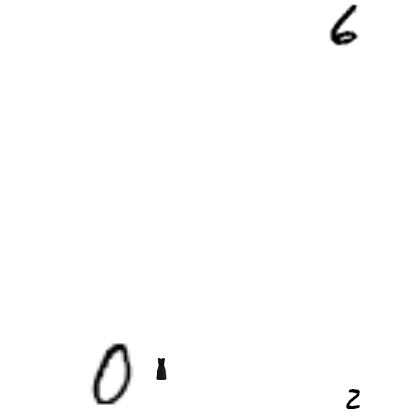0: (70, 329, 154, 413)
2: (339, 385, 367, 413)
6: (314, 1, 370, 57)
Dress: (150, 358, 172, 380)
